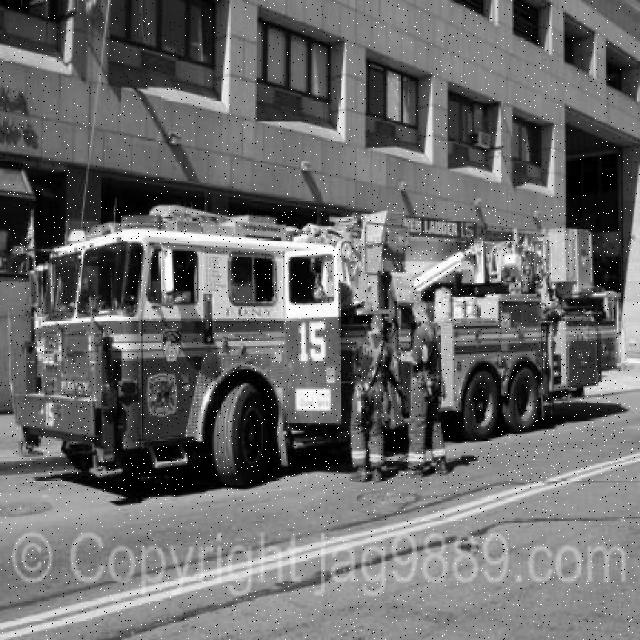Fire Truck: (9, 204, 624, 490)
